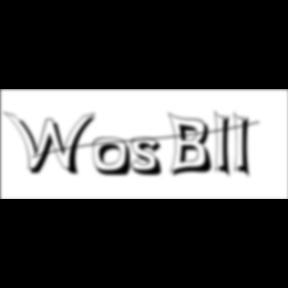B: (168, 111, 218, 179)
I: (233, 110, 257, 182)
W: (4, 110, 102, 178)
l: (214, 108, 238, 182)
o: (93, 137, 135, 179)
s: (131, 137, 170, 179)
